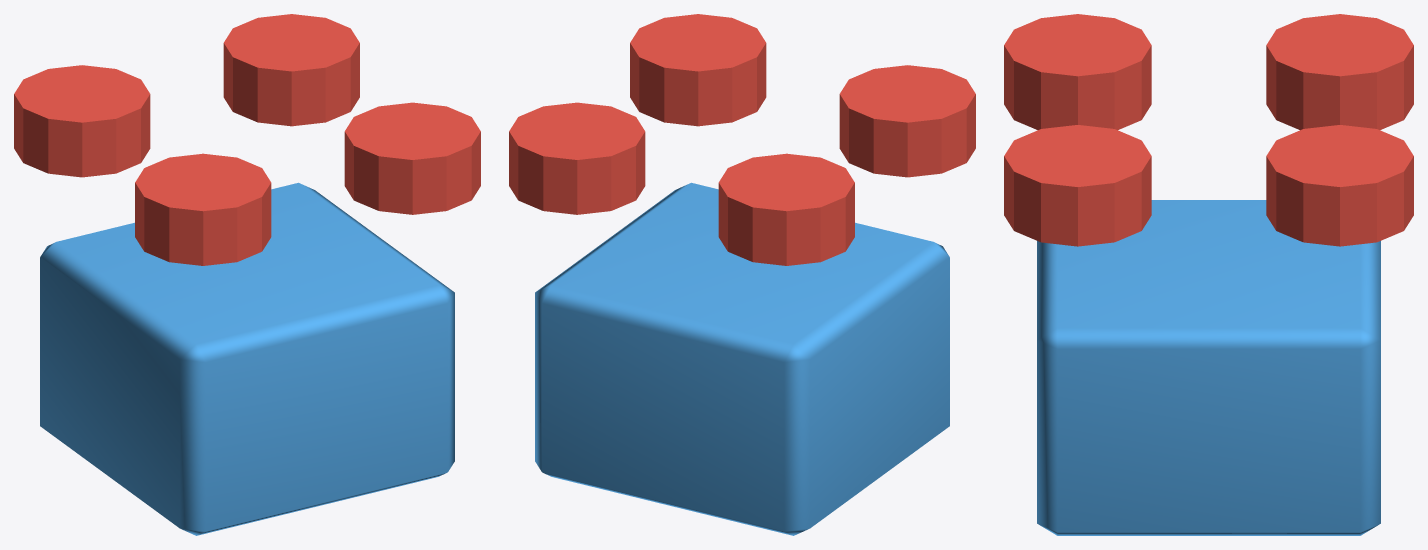
The model's file is building-block.glb.
3 renders of one model, left to right at view 1: azimuth 30°, elevation 25°; view 2: azimuth 150°, elevation 25°; view 3: azimuth 270°, elevation 25°, orthographic. The views are drawn at different scales.
Parts seen in each view (by area): view 1: block, stud.001, stud, stud.002, stud.003; view 2: block, stud, stud.001, stud.002, stud.003; view 3: block, stud.002, stud.003, stud, stud.001.
Boxes of the visible parts, x1,y1,x2,y2 form: block: (40,182,454,535); stud.001: (14,65,150,177); stud: (135,153,271,265); stud.002: (344,102,480,214); stud.003: (223,14,359,126); block: (535,182,949,535); stud: (839,65,975,177); stud.001: (718,153,854,265); stud.002: (630,14,766,126); stud.003: (509,102,645,214); block: (1037,200,1380,535); stud.002: (1004,125,1151,246); stud.003: (1266,125,1413,246); stud: (1004,14,1151,130); stud.001: (1266,14,1413,130).
Bounding box in the file's own units: 0.5 × 0.5 × 0.5.
